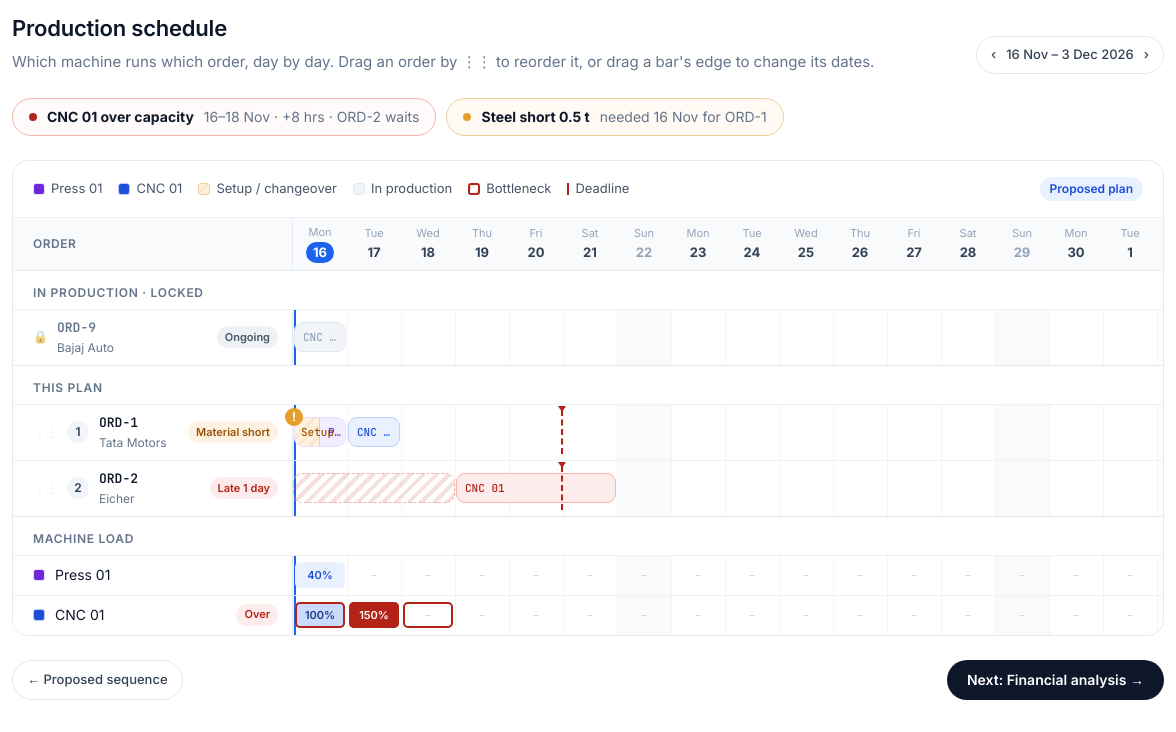
Test: schedule: chips, running + planned rows, statuses, routes, load and the queue
Expected: the text "CNC 01 over capacity" is shown, [47,106,194,126]
Expected: the text "Steel short 0.5 t" is shown, [482,106,590,126]
Click the button named "Later week".
click(1151, 55)  # box [1140,37,1163,72]
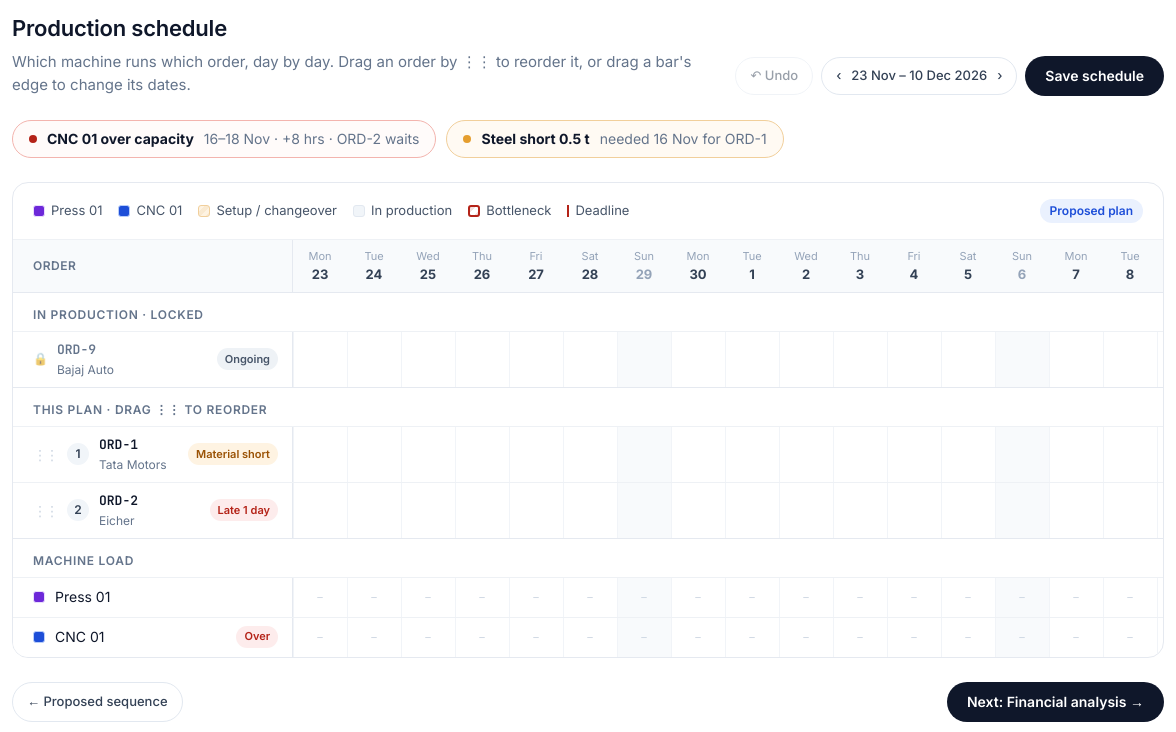
Now the text "23 Nov – 10 Dec 2026" is shown, box [845,66,993,86]
Now the button "↶ Undo" is disabled, box [735,57,813,95]
